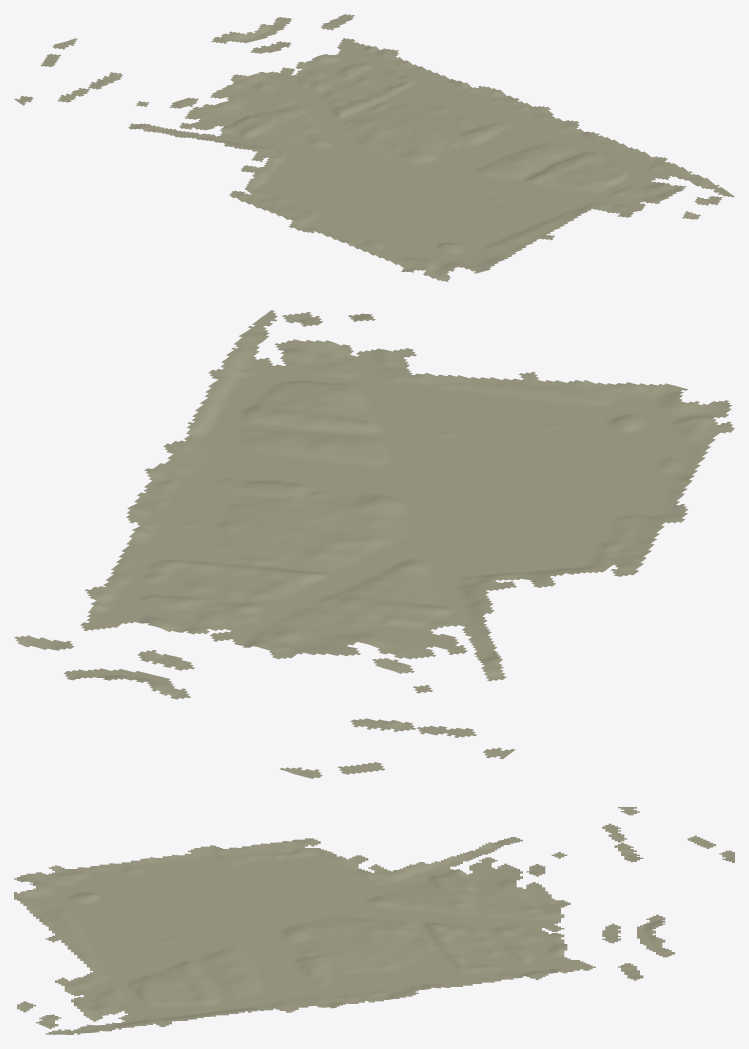
Rendered from ground.glb.
The picture shows the model from 3 angles, top to bottom: view 1: azimuth 30°, elevation 25°; view 2: azimuth 150°, elevation 25°; view 3: azimuth 270°, elevation 25°; orthographic projection. The views are drawn at different scales.
Visible parts, largest first — view 1: Yard_ground; view 2: Yard_ground; view 3: Yard_ground.
Boxes of the visible parts, x1,y1,x2,y2 form: Yard_ground: (14,14,734,281); Yard_ground: (14,310,734,778); Yard_ground: (14,807,734,1034).
Bounding box in the file's own units: 85 × 0.3852 × 114.
